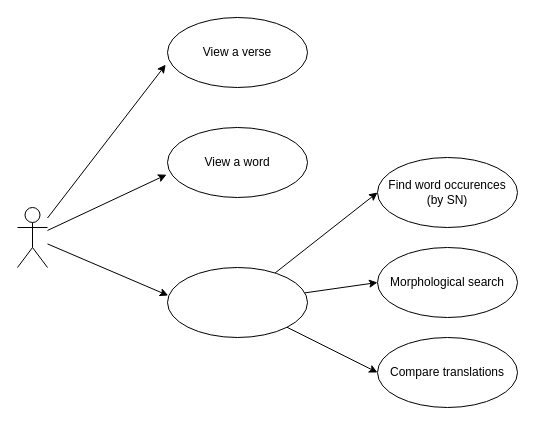
This 535x425 diagram has some shape labels left out. Here are the shapes that lost their labels. From the top down, the centre of each, then its label:
pixel 32 237: User
pixel 237 302: Search by word/phrase (ru/he/gr/SN)
